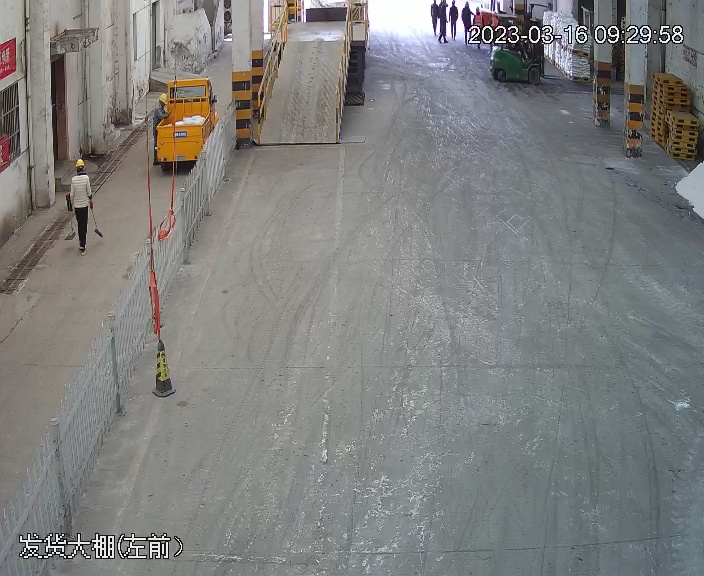head: (69, 158, 91, 184)
helmet: (74, 158, 86, 168)
people: (67, 153, 98, 255)
